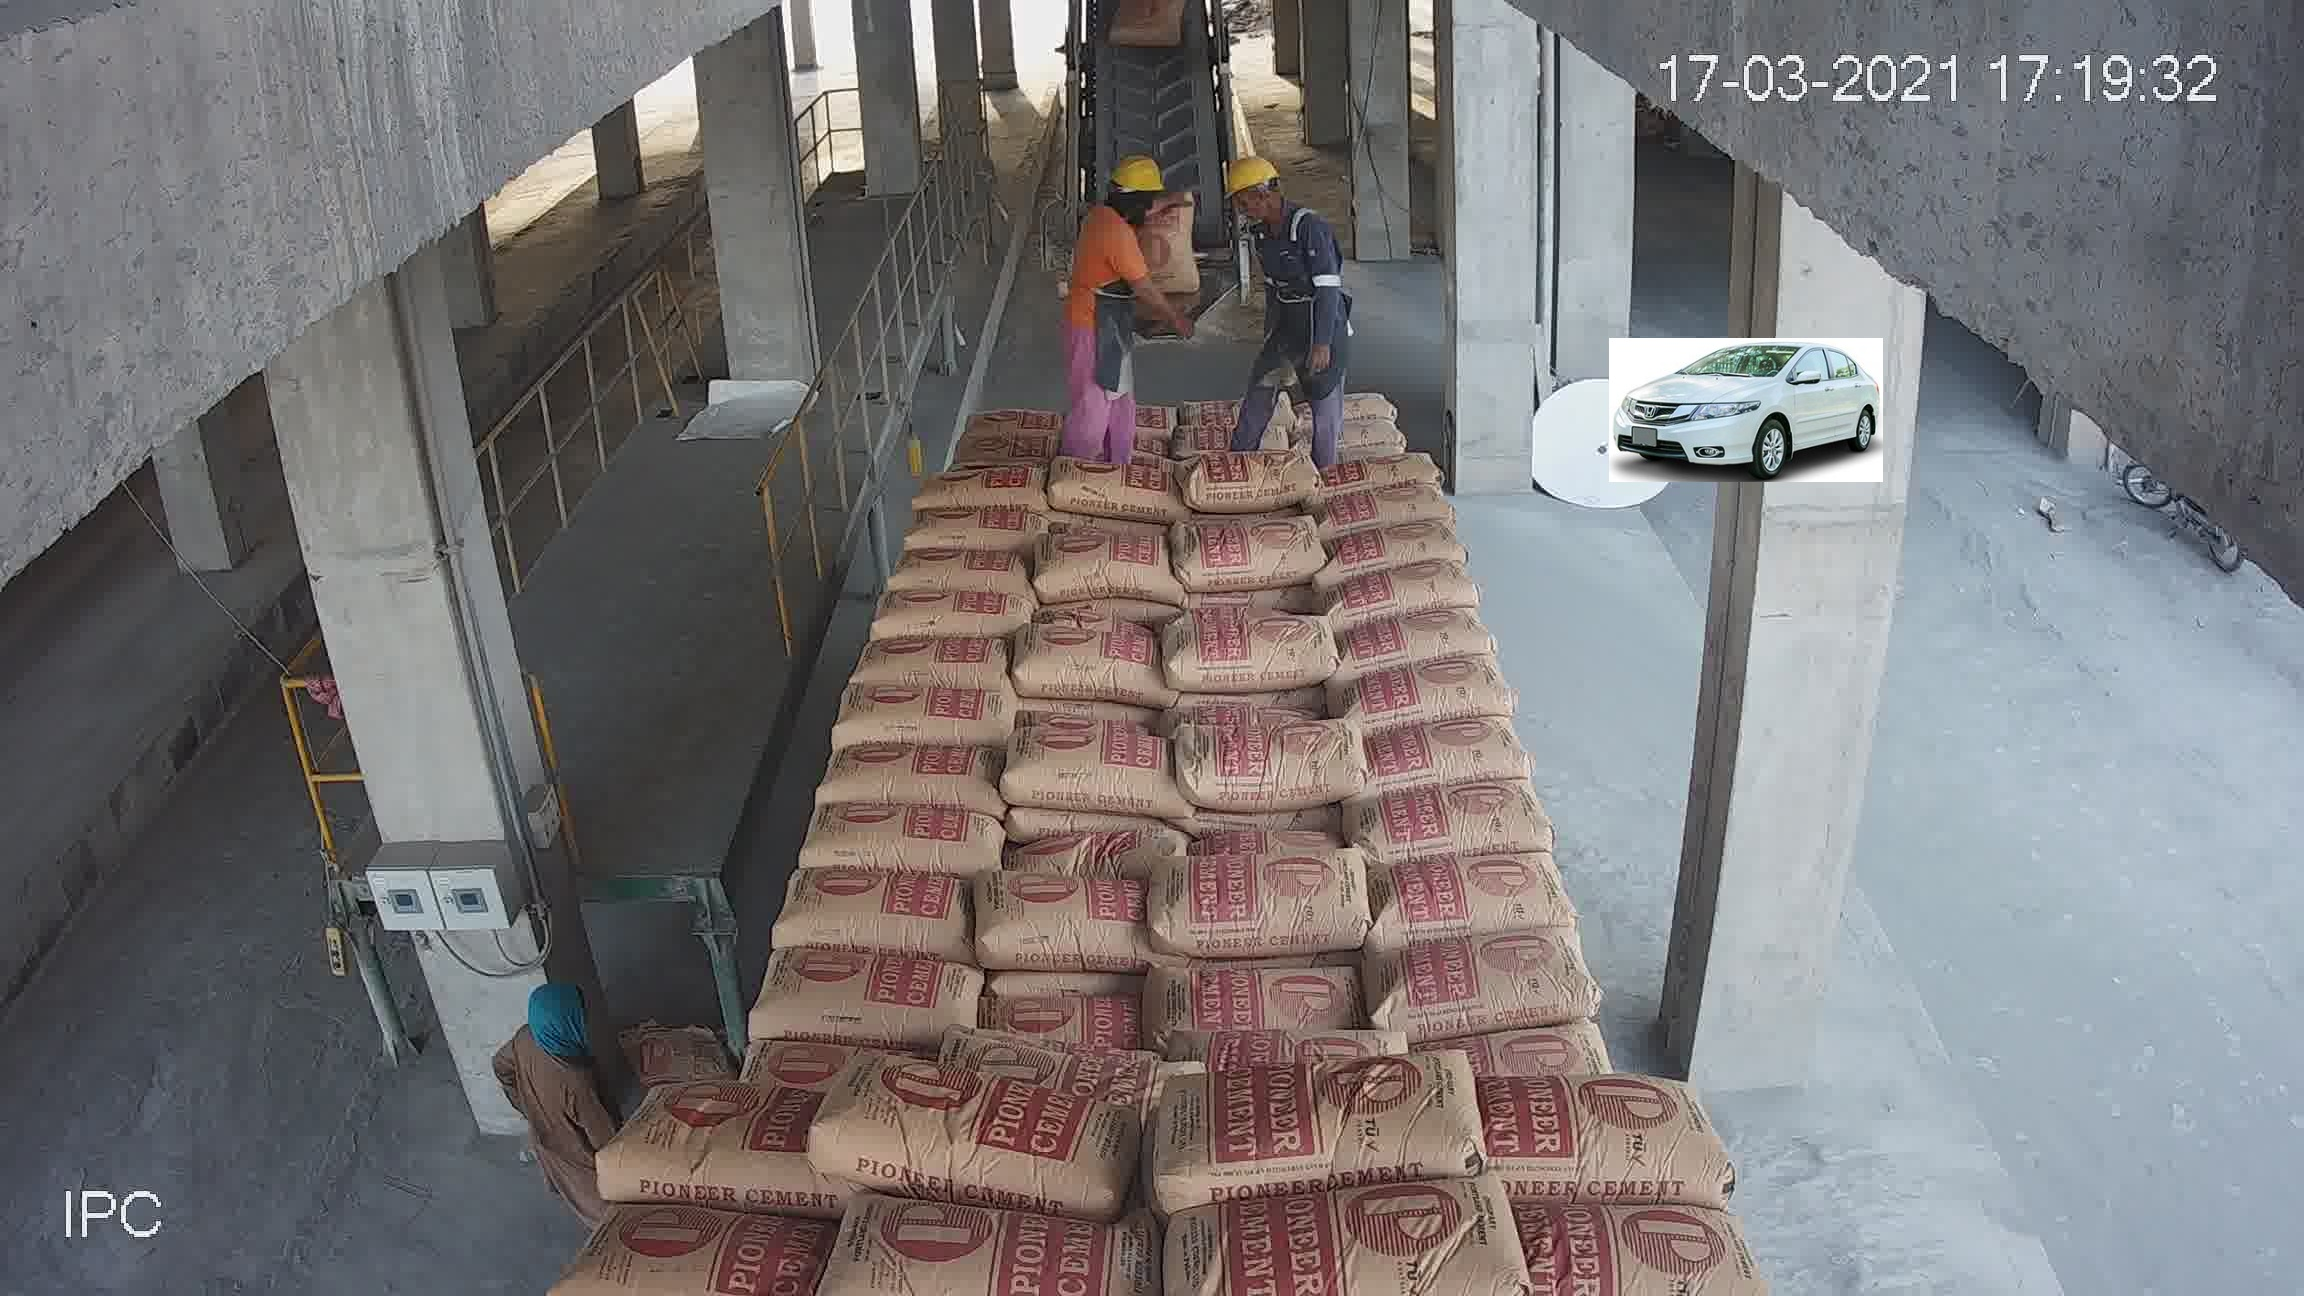bag: (1124, 255, 1223, 343)
bag_h: (798, 1055, 1152, 1188), (1131, 1055, 1480, 1188), (1146, 1169, 1527, 1280), (1378, 900, 1609, 1052), (829, 1180, 1180, 1274), (1146, 824, 1380, 964), (592, 1063, 821, 1201), (726, 956, 995, 1060), (1464, 1089, 1733, 1192), (1511, 1196, 1777, 1283), (753, 858, 976, 959), (964, 858, 1154, 976), (1374, 851, 1581, 957), (562, 1199, 812, 1283), (983, 718, 1184, 810), (1334, 654, 1519, 752), (1374, 790, 1559, 888), (1187, 711, 1385, 802), (809, 731, 987, 826), (1453, 1008, 1631, 1100), (1332, 728, 1544, 804), (1324, 597, 1497, 684), (994, 801, 1198, 873), (1141, 965, 1359, 1033), (821, 682, 1019, 755), (935, 1030, 1203, 1084), (1150, 616, 1336, 690), (790, 801, 1000, 866), (1011, 612, 1150, 706), (843, 619, 1014, 692), (1173, 555, 1350, 623), (956, 997, 1139, 1060), (1173, 1019, 1408, 1068), (1324, 560, 1472, 631), (862, 589, 1014, 649), (1003, 571, 1174, 623), (1166, 460, 1268, 540), (888, 479, 1010, 544), (888, 525, 1002, 590), (1165, 381, 1282, 437), (1173, 426, 1268, 484), (916, 435, 1022, 479), (919, 407, 1013, 446)
belt: (1060, 27, 1275, 354)
